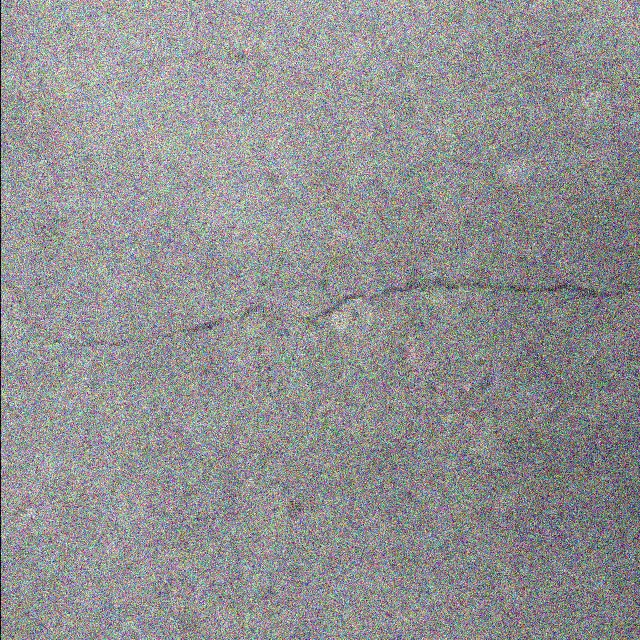SurfaceCrack: (12, 250, 640, 358)
